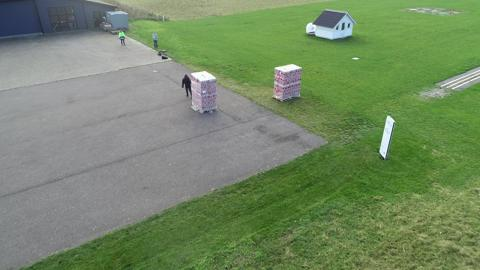RockwoolPallet: (191, 71, 220, 116)
